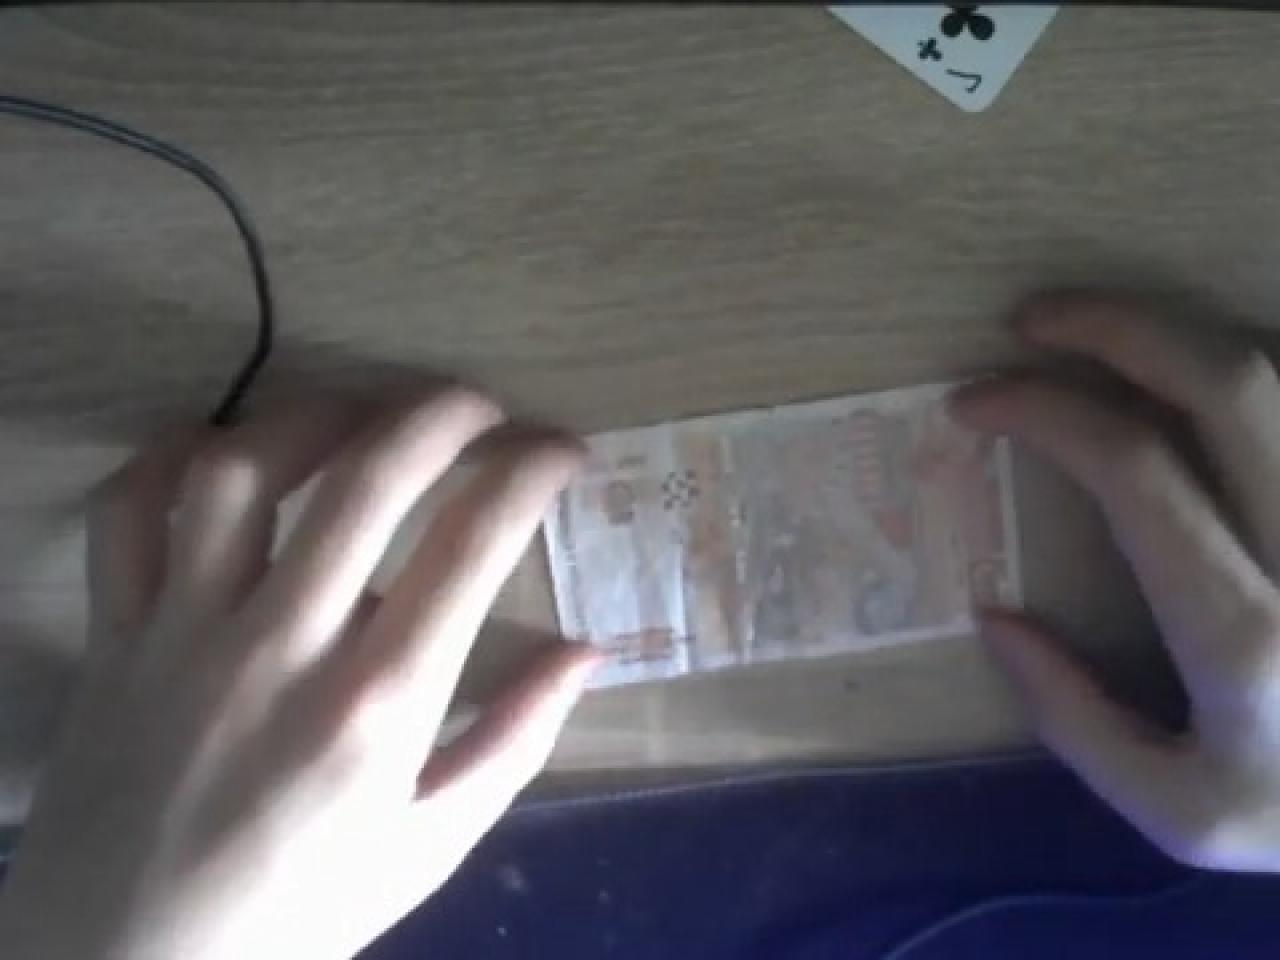5leva: (538, 379, 1032, 688)
